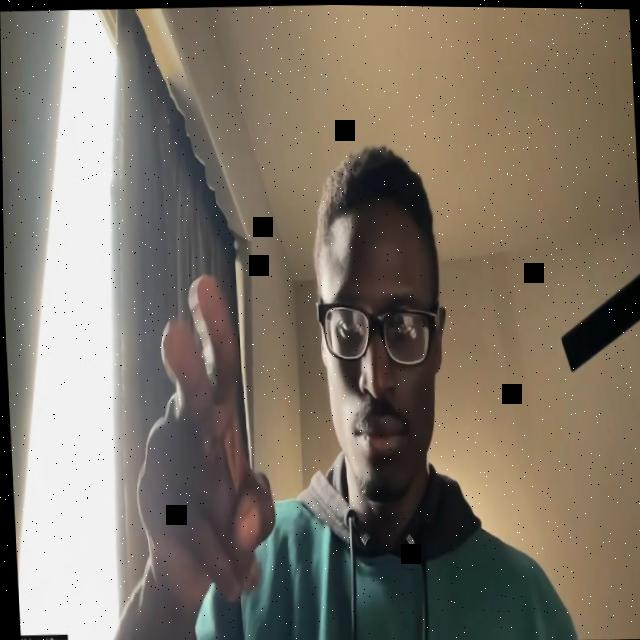Scissors: (122, 272, 280, 611)
